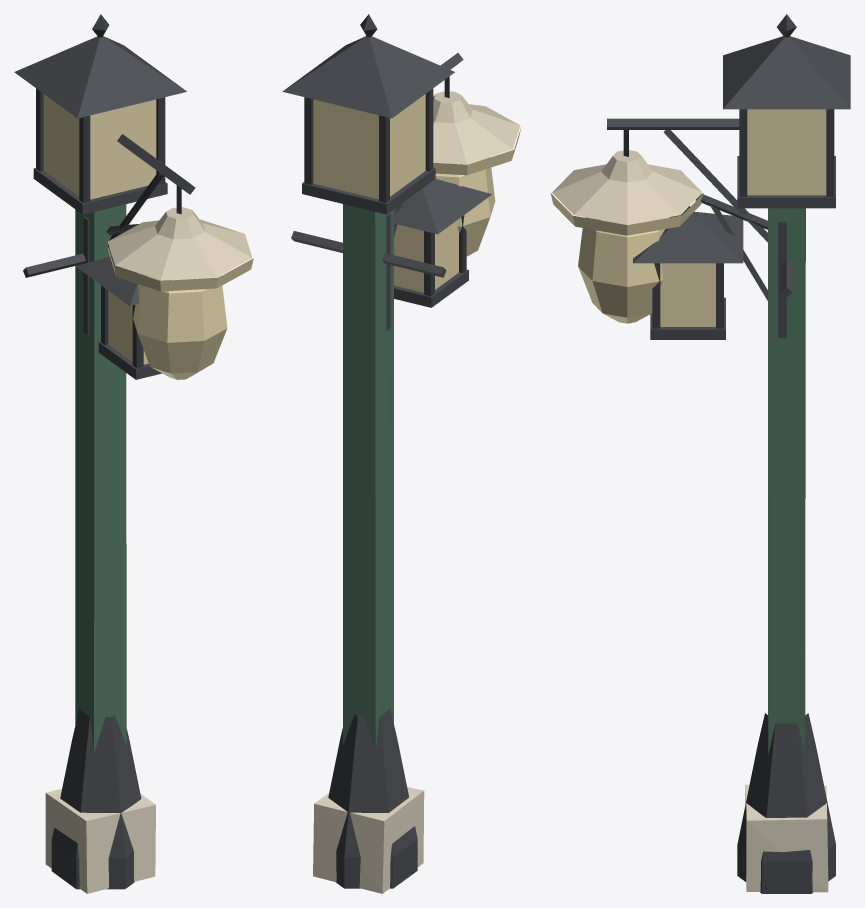
Rendered from aubrune-luminaires.glb.
The picture shows the model from 3 angles, left to right: view 1: azimuth 30°, elevation 25°; view 2: azimuth 150°, elevation 25°; view 3: azimuth 270°, elevation 25°; orthographic projection.
Parts seen in each view (by area): view 1: platform-lantern, street-lantern, wall-lantern; view 2: platform-lantern, street-lantern, wall-lantern; view 3: platform-lantern, street-lantern, wall-lantern.
Part boxes in pixels (bbox=[...]): platform-lantern: bbox=[45, 134, 253, 893]; street-lantern: bbox=[14, 14, 186, 889]; wall-lantern: bbox=[75, 216, 161, 379]; platform-lantern: bbox=[313, 53, 521, 893]; street-lantern: bbox=[282, 14, 454, 888]; wall-lantern: bbox=[385, 179, 491, 331]; platform-lantern: bbox=[550, 118, 828, 892]; street-lantern: bbox=[723, 14, 850, 893]; wall-lantern: bbox=[633, 194, 786, 339].
Bounding box in the file's own units: 0.6 × 3.28 × 1.03.
